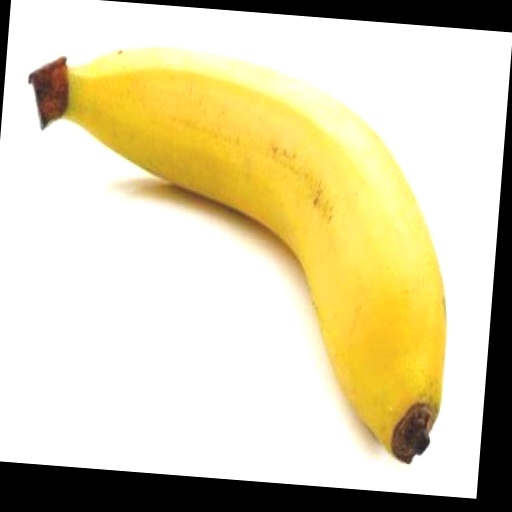fruit: (29, 49, 445, 462)
